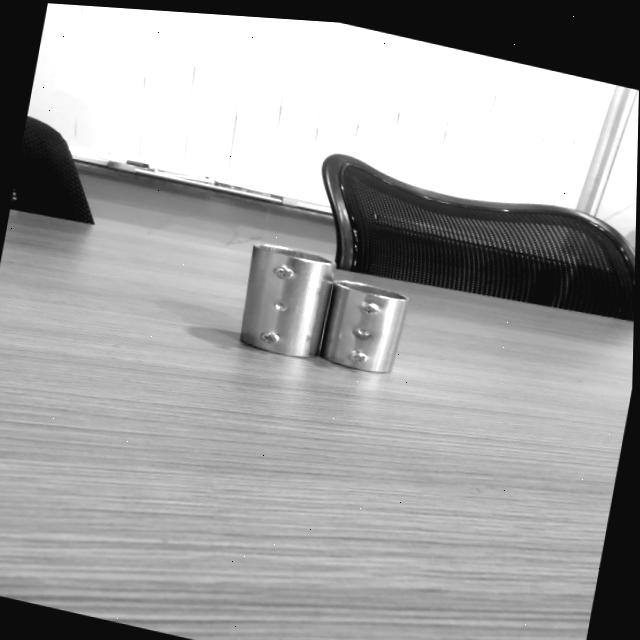Co_Lon: (237, 241, 337, 360)
Co_Nho: (316, 277, 409, 376)
